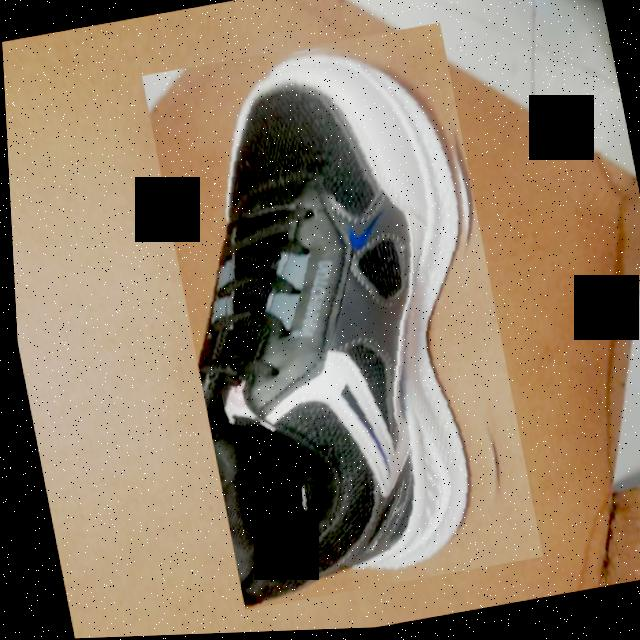shoe: (140, 24, 538, 614)
